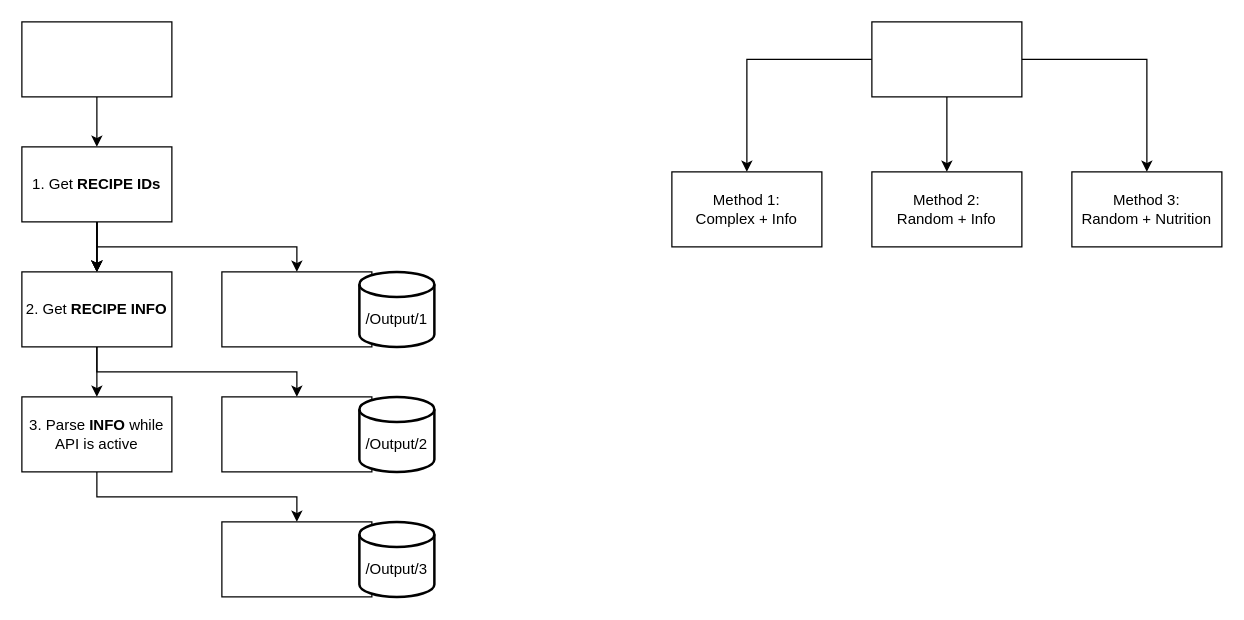
Image size: 1244x620. Some labels were removed from this diagram. Each missing label, with the box of its shape:
API Testing: (21, 21, 172, 97)
Data Collection: (871, 21, 1022, 97)
Export to CSV (Raw Data #1): (221, 271, 372, 347)
Export to CSV (Raw Data #2): (221, 396, 372, 472)
Export to CSV (Simplified Data): (221, 521, 372, 597)
